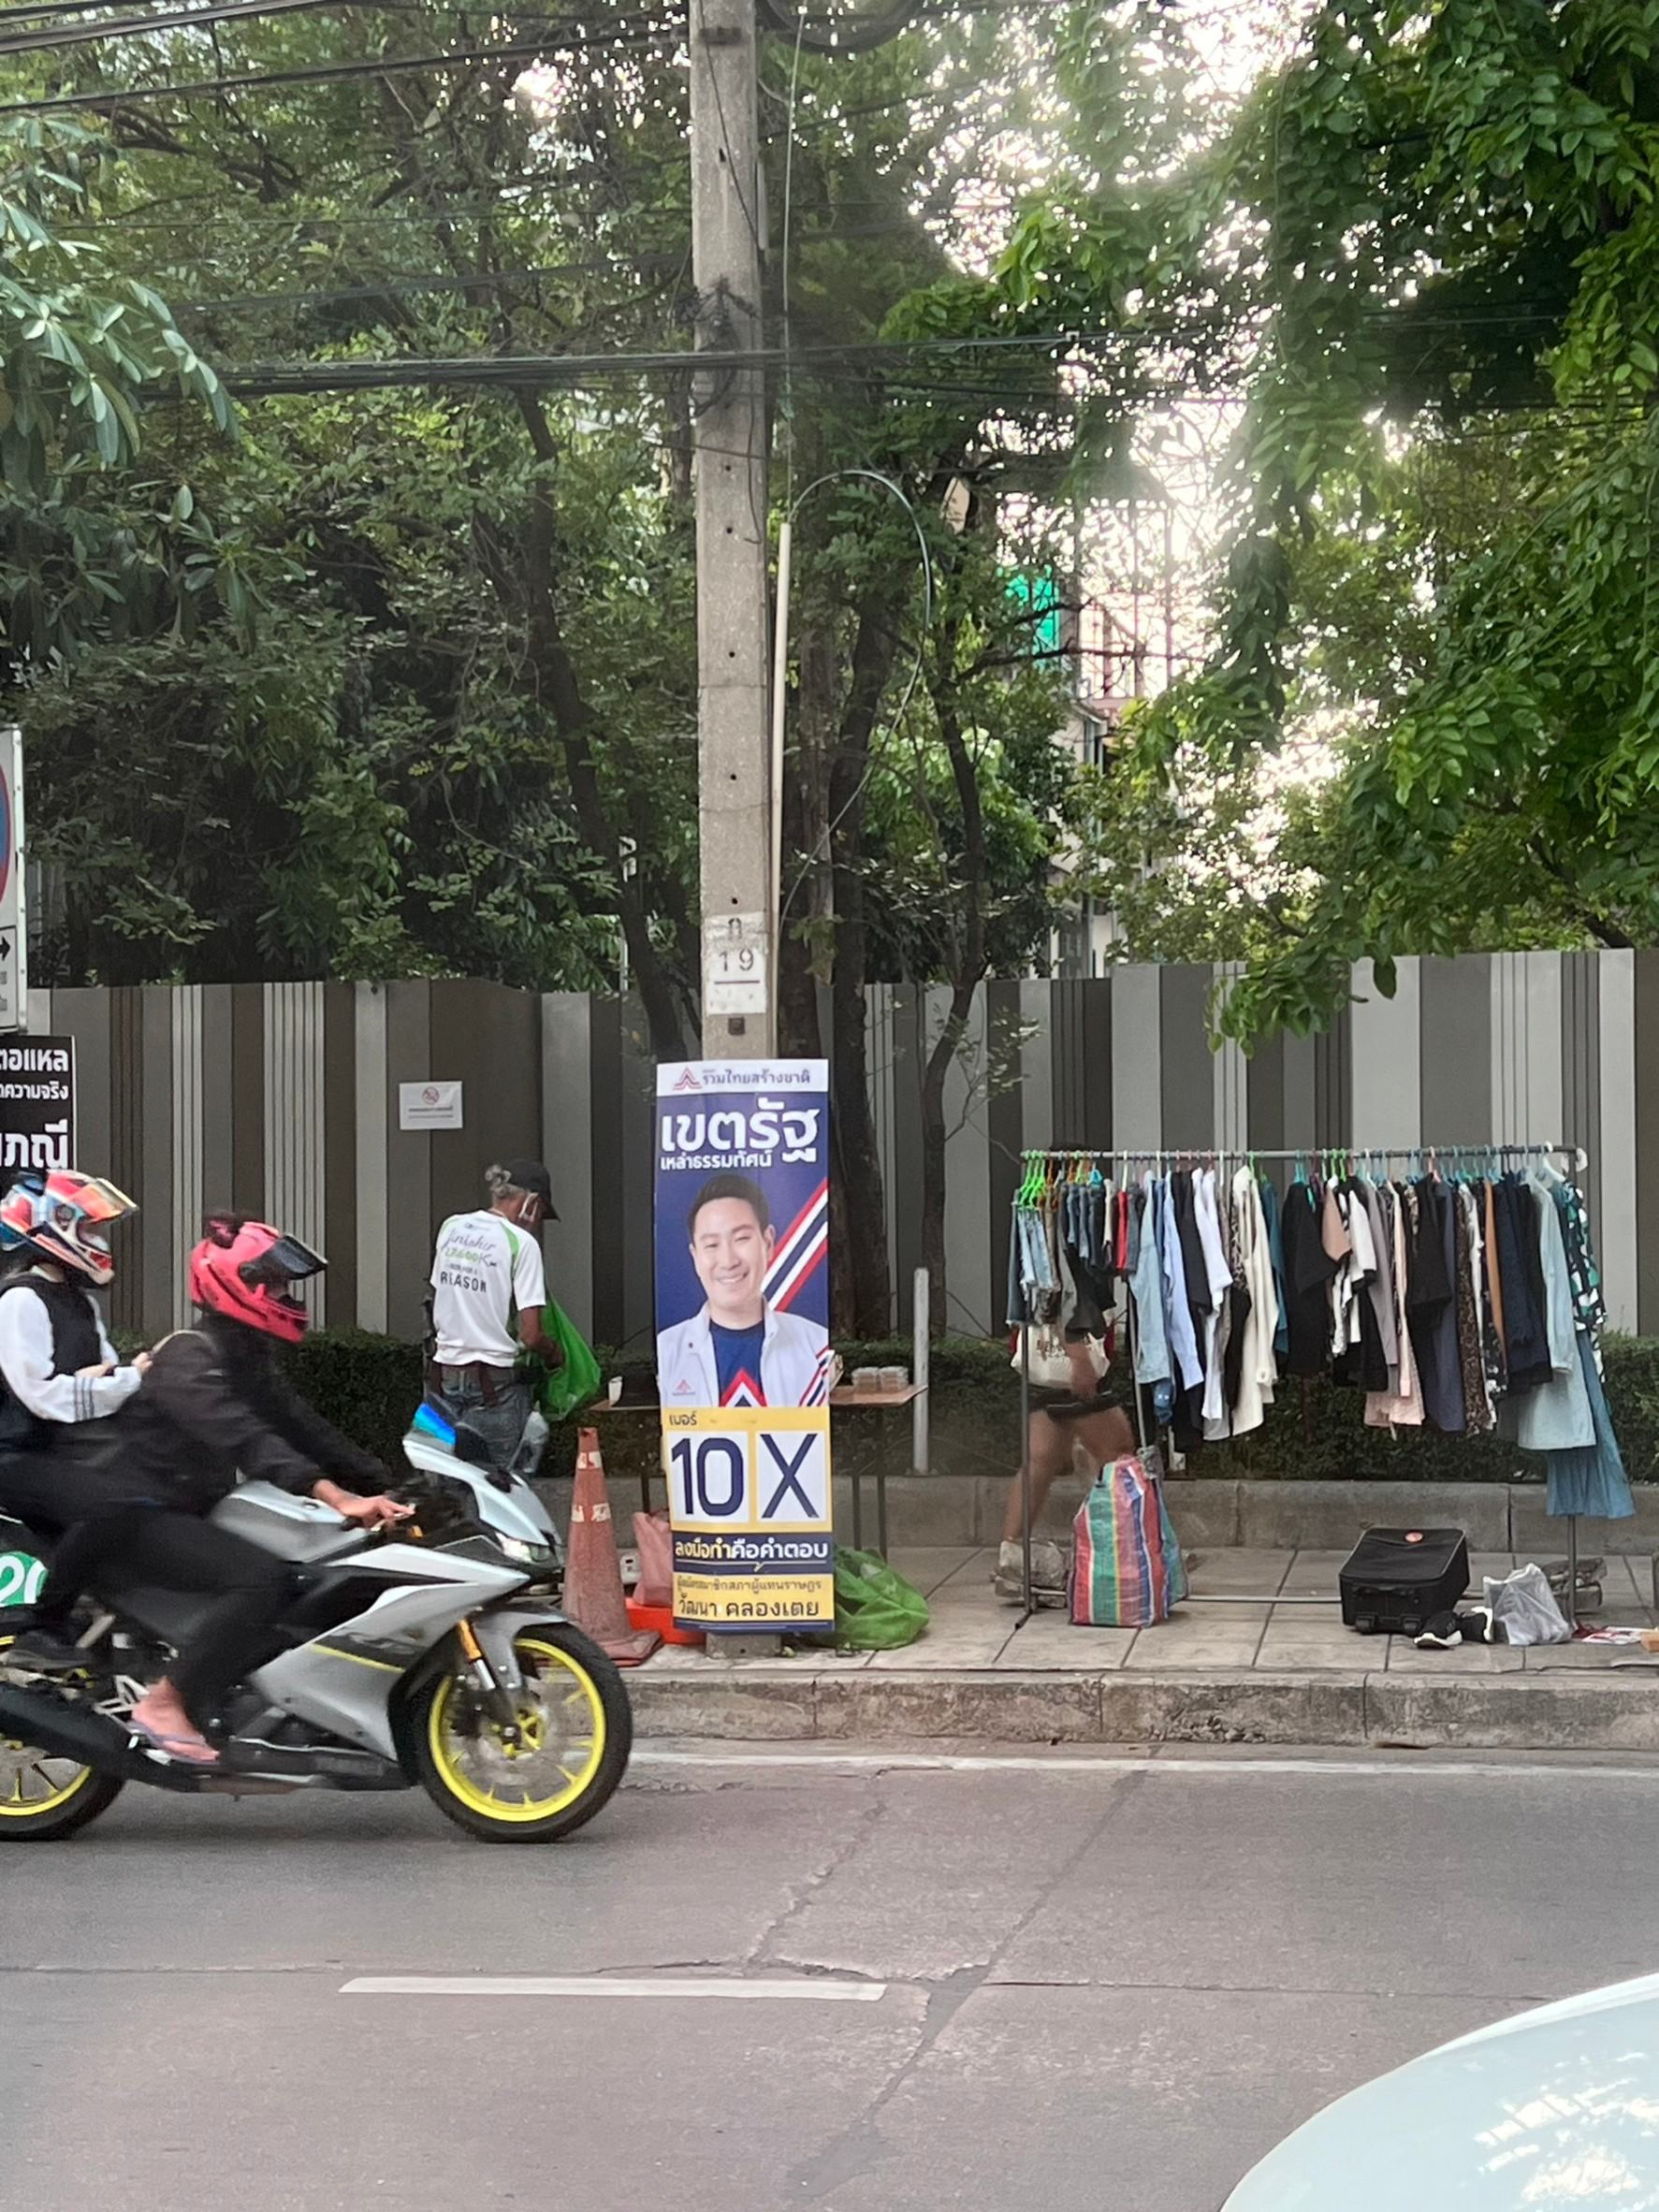Banner: (627, 1026, 845, 1629)
